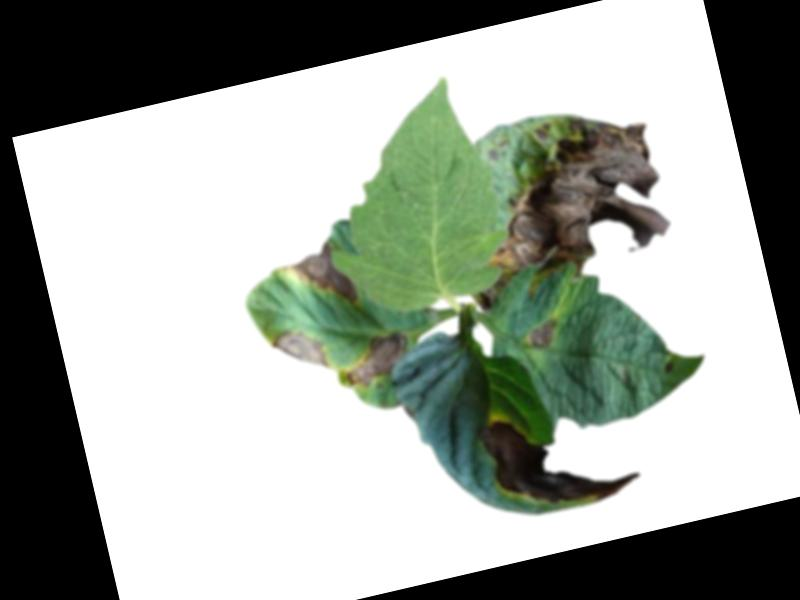Early_blight: (460, 98, 677, 296), (471, 388, 643, 524), (283, 237, 360, 315), (336, 325, 415, 391), (268, 321, 329, 380), (523, 317, 561, 351), (473, 284, 498, 314), (660, 358, 673, 373)
